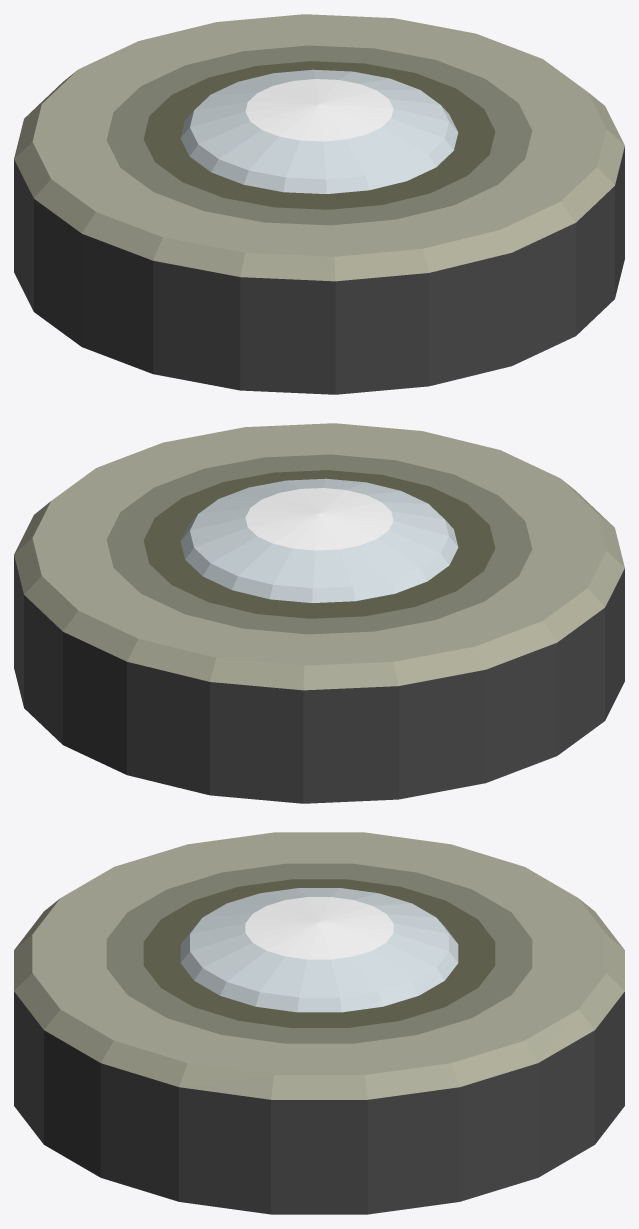
The model's file is gloomlight.obj.
3 views of the same model, one above another, from view 1: azimuth 30°, elevation 25°; view 2: azimuth 150°, elevation 25°; view 3: azimuth 270°, elevation 25° (orthographic).
Parts seen in each view (by area): view 1: gloomlight_0; view 2: gloomlight_0; view 3: gloomlight_0.
Part boxes in pixels (x1,y1,x2,y2): gloomlight_0: (14,14,624,394); gloomlight_0: (14,423,624,803); gloomlight_0: (14,832,624,1214).
Bounding box in the file's own units: 0.6518 × 0.192 × 0.6518.
